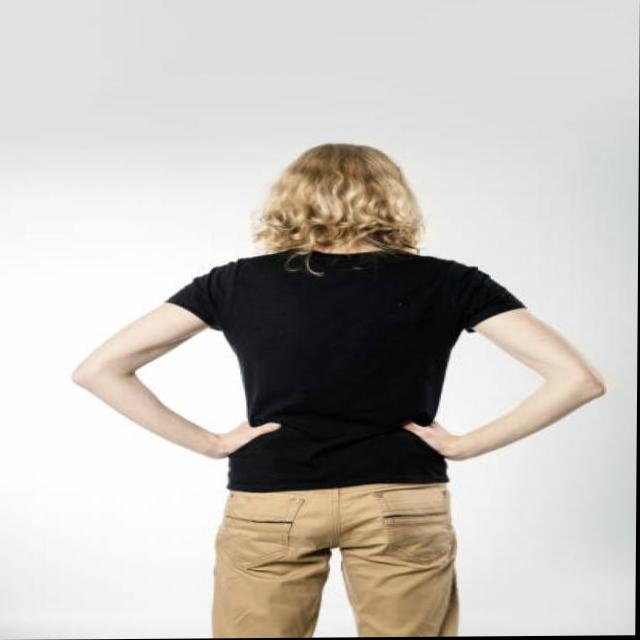no helmet: (244, 126, 424, 257)
